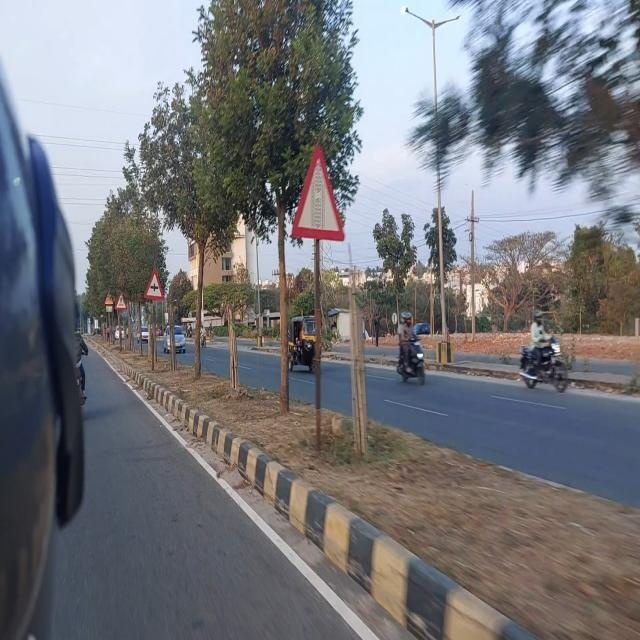bien_nguy_hiem: (291, 142, 345, 246), (144, 268, 164, 302), (116, 290, 127, 312)
